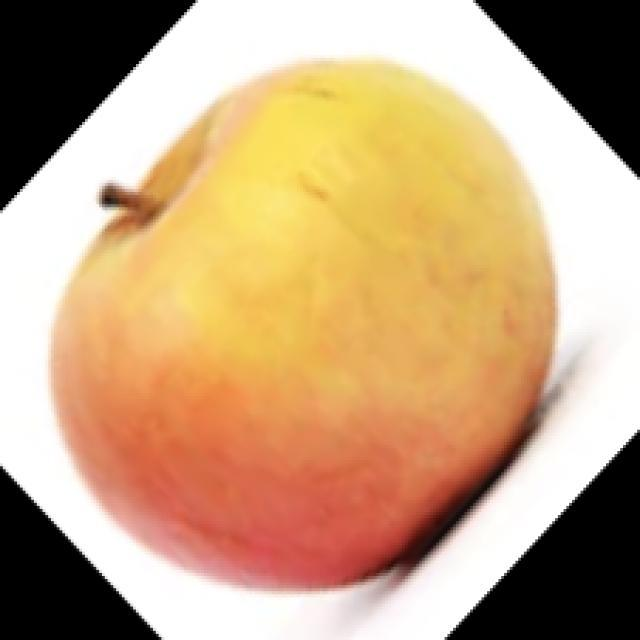Fresh Apple: (37, 53, 560, 597)
